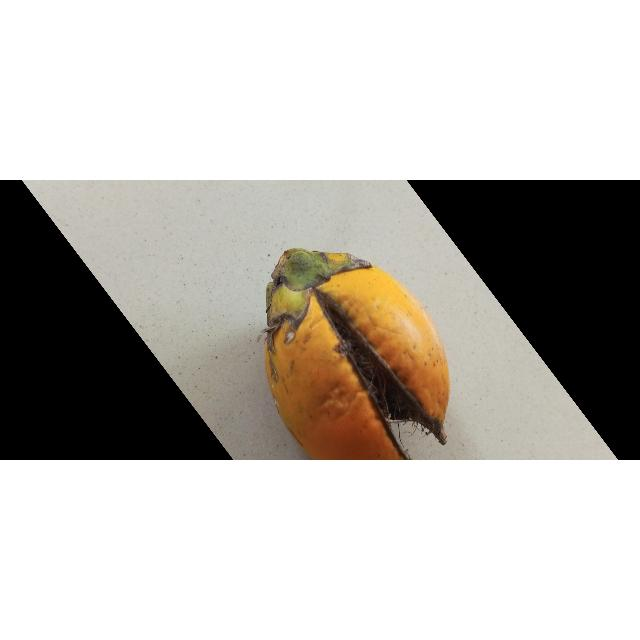damaged: (264, 249, 451, 461)
